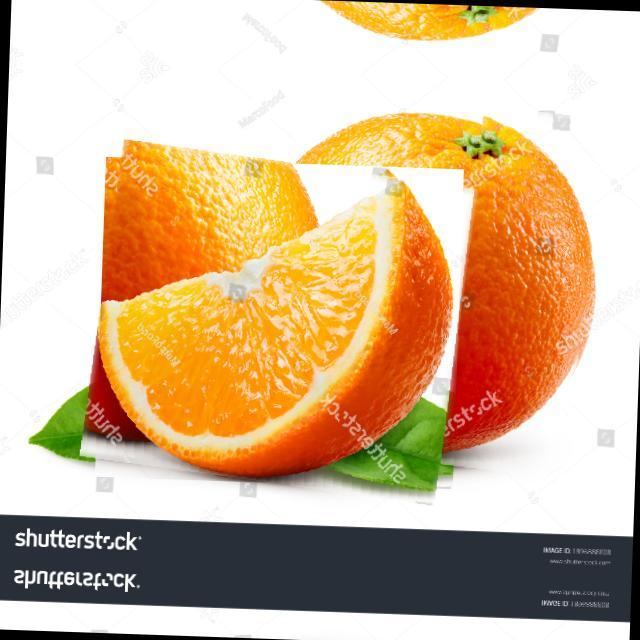Orange: (96, 173, 454, 478), (295, 110, 596, 453), (84, 138, 319, 443), (290, 0, 539, 41)
